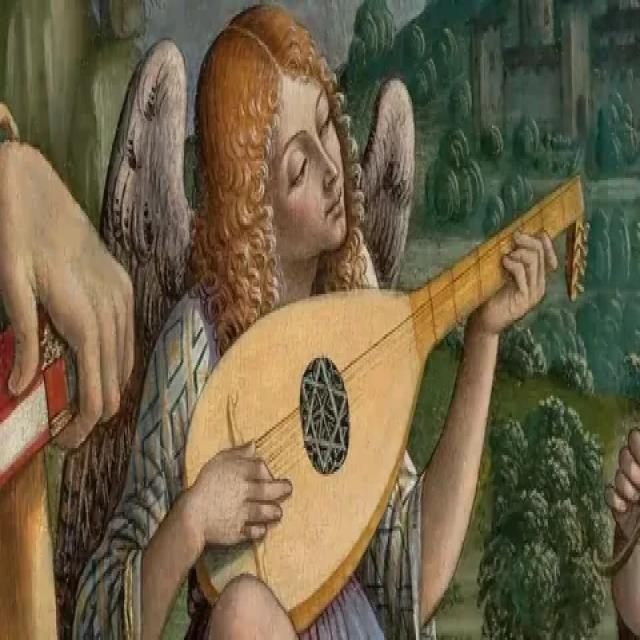angel: (102, 0, 596, 640)
